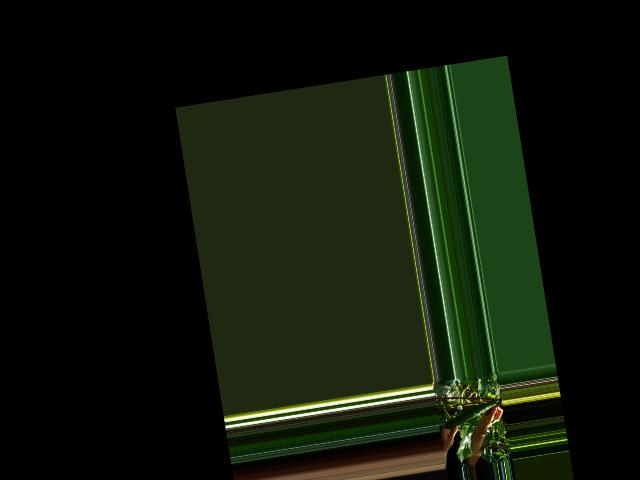cucumber: (441, 400, 499, 430)
